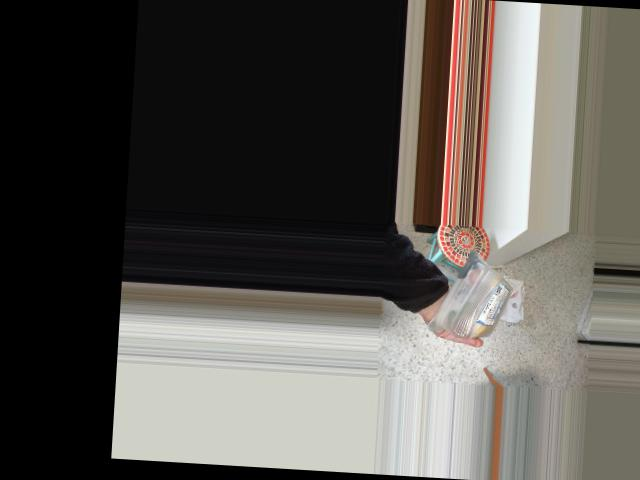cheese: (441, 279, 534, 324)
